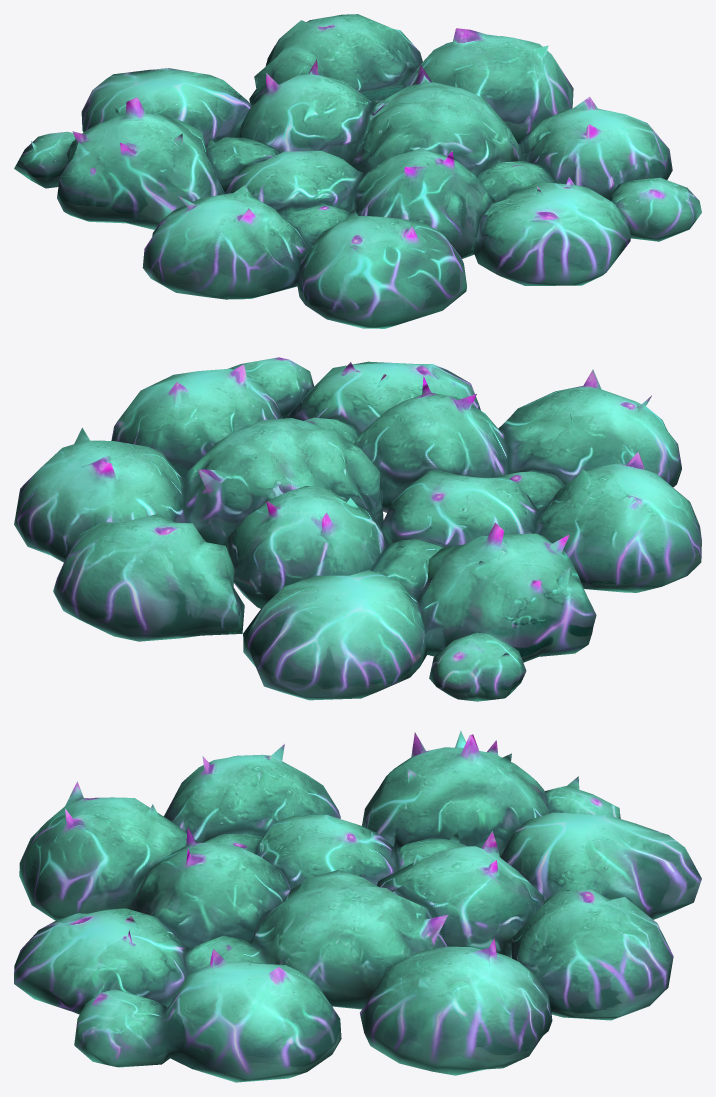
3 views of the same model, one above another, from view 1: azimuth 30°, elevation 25°; view 2: azimuth 150°, elevation 25°; view 3: azimuth 270°, elevation 25° (orthographic). The views are drawn at different scales.
Parts seen in each view (by area): view 1: Mesh_0; view 2: Mesh_0; view 3: Mesh_0.
Part boxes in pixels (x1,y1,x2,y2): Mesh_0: [14, 14, 701, 328]; Mesh_0: [14, 357, 701, 701]; Mesh_0: [14, 730, 701, 1082].
Size of the model in its own units: 1.84 by 0.3615 by 1.91.
1 material, 1 textured.
